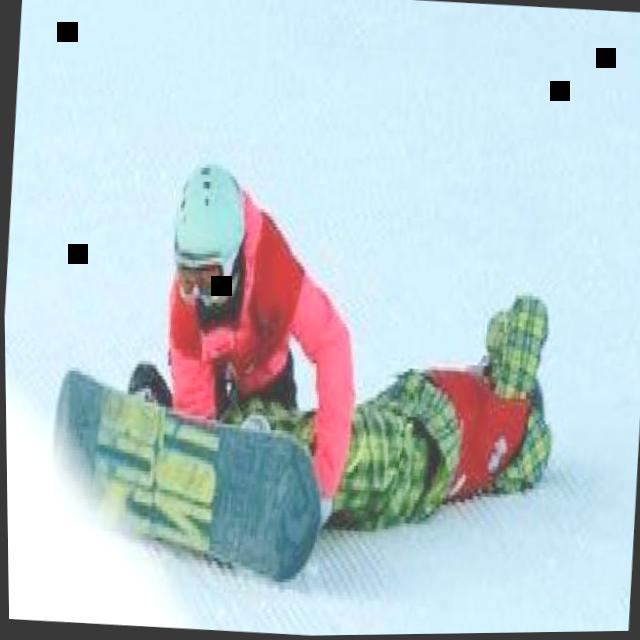Fall-Detected: (141, 219, 578, 575)
